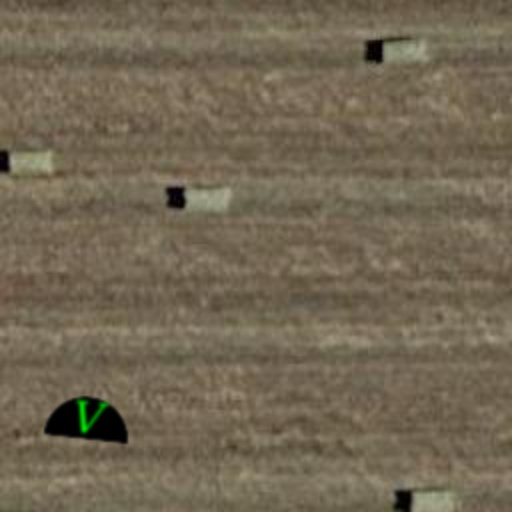semicircle: (40, 370, 136, 466)
